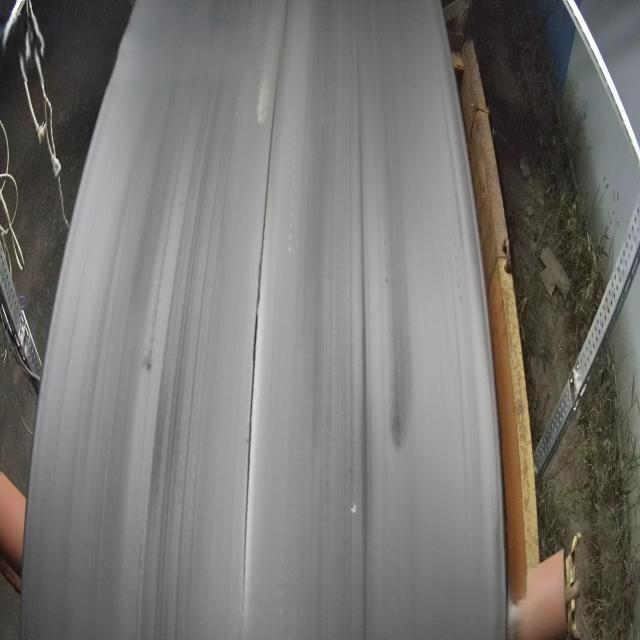Tear: (230, 76, 282, 616)
